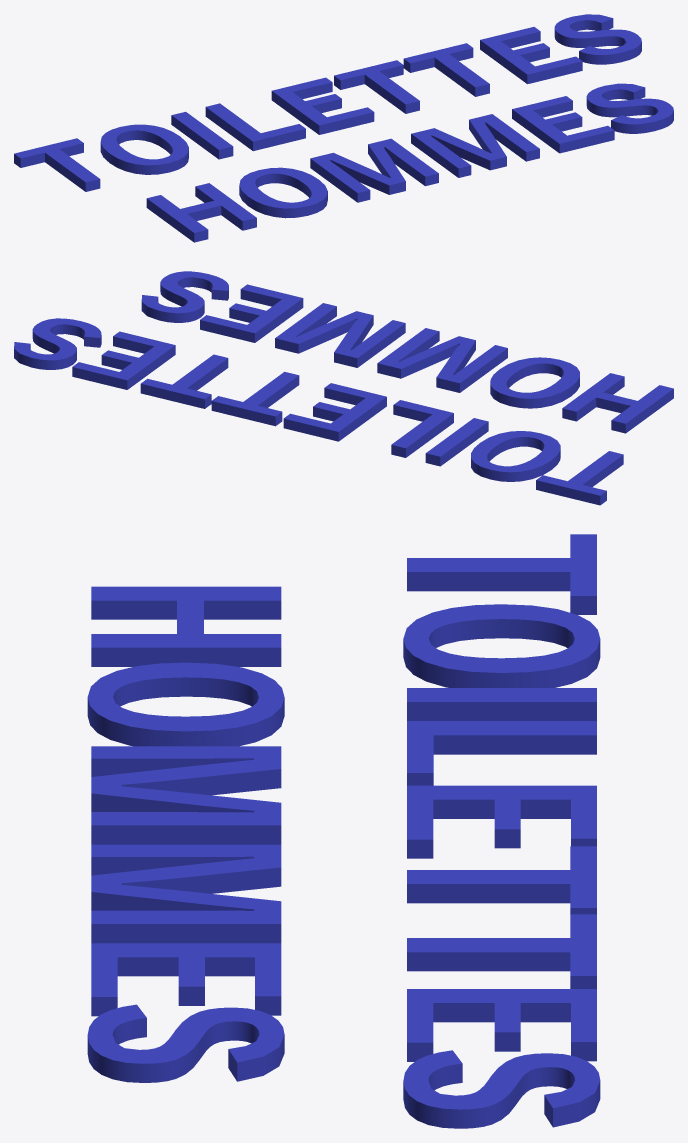
The model's file is TOILETTES HOMMES.fbx.
The picture shows the model from 3 angles, top to bottom: view 1: azimuth 30°, elevation 25°; view 2: azimuth 150°, elevation 25°; view 3: azimuth 270°, elevation 25°; orthographic projection. The views are drawn at different scales.
Parts seen in each view (by area): view 1: node_id51 (×2); view 2: node_id51 (×2); view 3: node_id51 (×2).
Boxes of the visible parts, box(x1,y1,x2,y2) form: node_id51 (×2): box(14, 14, 673, 242); node_id51 (×2): box(14, 271, 673, 505); node_id51 (×2): box(87, 534, 600, 1128).
Bounding box in the file's own units: 1.2 × 0.0188 × 0.4526.
